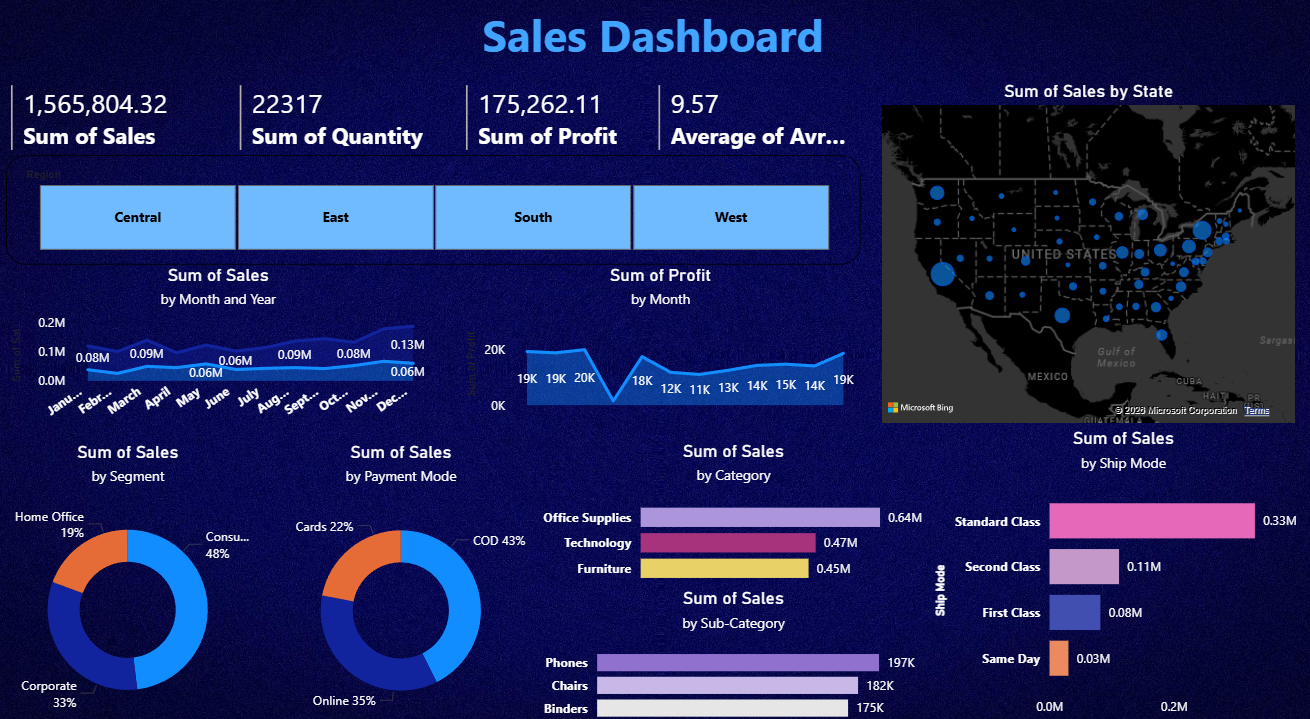

The dashboard page shown, as its layout file describes it:
{"tool":"powerbi","page":{"name":"Page 1","canvas":[1280,720],"ordinal":0},"visuals":[{"type":"clusteredBarChart","fields":{"Category":["SuperStore_Sales_Dataset.Sub-Category"],"Y":["Sum(SuperStore_Sales_Dataset.Sales)"]},"box":[527.2,577.9,378.8,138.7],"z":0},{"type":"clusteredBarChart","fields":{"Category":["SuperStore_Sales_Dataset.Category"],"Y":["Sum(SuperStore_Sales_Dataset.Sales)"]},"box":[527.2,435.5,378.8,148.4],"z":1000},{"type":"clusteredBarChart","fields":{"Category":["SuperStore_Sales_Dataset.Ship Mode","SuperStore_Sales_Dataset.Sub-Category"],"Y":["Sum(SuperStore_Sales_Dataset.Sales)"]},"box":[906,423.5,374,287.1],"z":2000},{"type":"stackedAreaChart","fields":{"Y":["Sum(SuperStore_Sales_Dataset.Sales)"],"Category":["SuperStore_Sales_Dataset.Order Date.Variation.Date Hierarchy.Month"],"Series":["SuperStore_Sales_Dataset.Order Date.Variation.Date Hierarchy.Year"]},"box":[14.3,265.5,409.6,158.4],"z":3000},{"type":"stackedAreaChart","fields":{"Y":["Sum(SuperStore_Sales_Dataset.Profit)"],"Category":["SuperStore_Sales_Dataset.Order Date.Variation.Date Hierarchy.Month"]},"box":[453.9,265.5,385.4,149.9],"z":4000},{"type":"donutChart","fields":{"Category":["SuperStore_Sales_Dataset.Segment"],"Y":["Sum(SuperStore_Sales_Dataset.Sales)"]},"box":[0,436.7,264.2,282.3],"z":5000},{"type":"donutChart","fields":{"Category":["SuperStore_Sales_Dataset.Payment Mode"],"Y":["Sum(SuperStore_Sales_Dataset.Sales)"]},"box":[264.2,436.7,263,283.5],"z":6000},{"type":"slicer","fields":{"Values":["SuperStore_Sales_Dataset.Region"]},"box":[14.3,159.9,825,105.6],"z":7000},{"type":"textbox","box":[14.3,10,1248.9,68.5],"z":8000},{"type":"multiRowCard","fields":{"Values":["Sum(SuperStore_Sales_Dataset.Sales)"]},"box":[14.3,88.5,204.1,94.2],"z":9000},{"type":"multiRowCard","fields":{"Values":["Sum(SuperStore_Sales_Dataset.Profit)"]},"box":[453.9,88.5,204.1,94.2],"z":10000},{"type":"multiRowCard","fields":{"Values":["Avg(SuperStore_Sales_Dataset.Avrg delivery day)"]},"box":[639.4,88.1,200.3,94.1],"z":11000},{"type":"multiRowCard","fields":{"Values":["Sum(SuperStore_Sales_Dataset.Quantity)"]},"box":[235.5,88.5,204.1,94.2],"z":12000},{"type":"map","fields":{"Category":["SuperStore_Sales_Dataset.State"],"Size":["Sum(SuperStore_Sales_Dataset.Sales)"]},"box":[855,88.5,408.2,335.4],"z":13000}]}

Visuals, with their boxes in screenshot pixels (x1, y1, x2, y2), scaled from the page's 1280x720 canvas onto the 1310x719 screenshot:
clusteredBarChart - SuperStore_Sales_Dataset.Sub-Category x Sum(SuperStore_Sales_Dataset.Sales): {"left": 540, "top": 577, "right": 927, "bottom": 716}
clusteredBarChart - SuperStore_Sales_Dataset.Category x Sum(SuperStore_Sales_Dataset.Sales): {"left": 540, "top": 435, "right": 927, "bottom": 583}
clusteredBarChart - SuperStore_Sales_Dataset.Ship Mode x SuperStore_Sales_Dataset.Sub-Category: {"left": 927, "top": 423, "right": 1309, "bottom": 710}
stackedAreaChart - Sum(SuperStore_Sales_Dataset.Sales) x SuperStore_Sales_Dataset.Order Date.Variation.Date Hierarchy.Month: {"left": 15, "top": 265, "right": 434, "bottom": 423}
stackedAreaChart - Sum(SuperStore_Sales_Dataset.Profit) x SuperStore_Sales_Dataset.Order Date.Variation.Date Hierarchy.Month: {"left": 465, "top": 265, "right": 859, "bottom": 415}
donutChart - SuperStore_Sales_Dataset.Segment x Sum(SuperStore_Sales_Dataset.Sales): {"left": 0, "top": 436, "right": 270, "bottom": 718}
donutChart - SuperStore_Sales_Dataset.Payment Mode x Sum(SuperStore_Sales_Dataset.Sales): {"left": 270, "top": 436, "right": 540, "bottom": 718}
slicer - SuperStore_Sales_Dataset.Region: {"left": 15, "top": 160, "right": 859, "bottom": 265}
textbox: {"left": 15, "top": 10, "right": 1293, "bottom": 78}
multiRowCard - Sum(SuperStore_Sales_Dataset.Sales): {"left": 15, "top": 88, "right": 224, "bottom": 182}
multiRowCard - Sum(SuperStore_Sales_Dataset.Profit): {"left": 465, "top": 88, "right": 673, "bottom": 182}
multiRowCard - Avg(SuperStore_Sales_Dataset.Avrg delivery day): {"left": 654, "top": 88, "right": 859, "bottom": 182}
multiRowCard - Sum(SuperStore_Sales_Dataset.Quantity): {"left": 241, "top": 88, "right": 450, "bottom": 182}
map - SuperStore_Sales_Dataset.State x Sum(SuperStore_Sales_Dataset.Sales): {"left": 875, "top": 88, "right": 1293, "bottom": 423}
